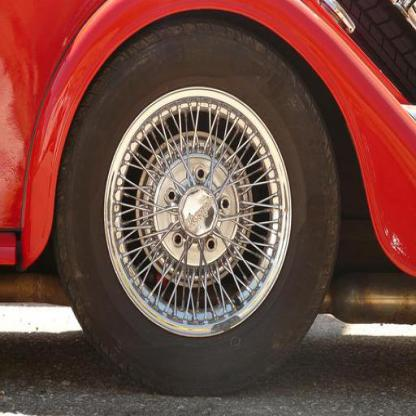Tire: (50, 18, 341, 395)
